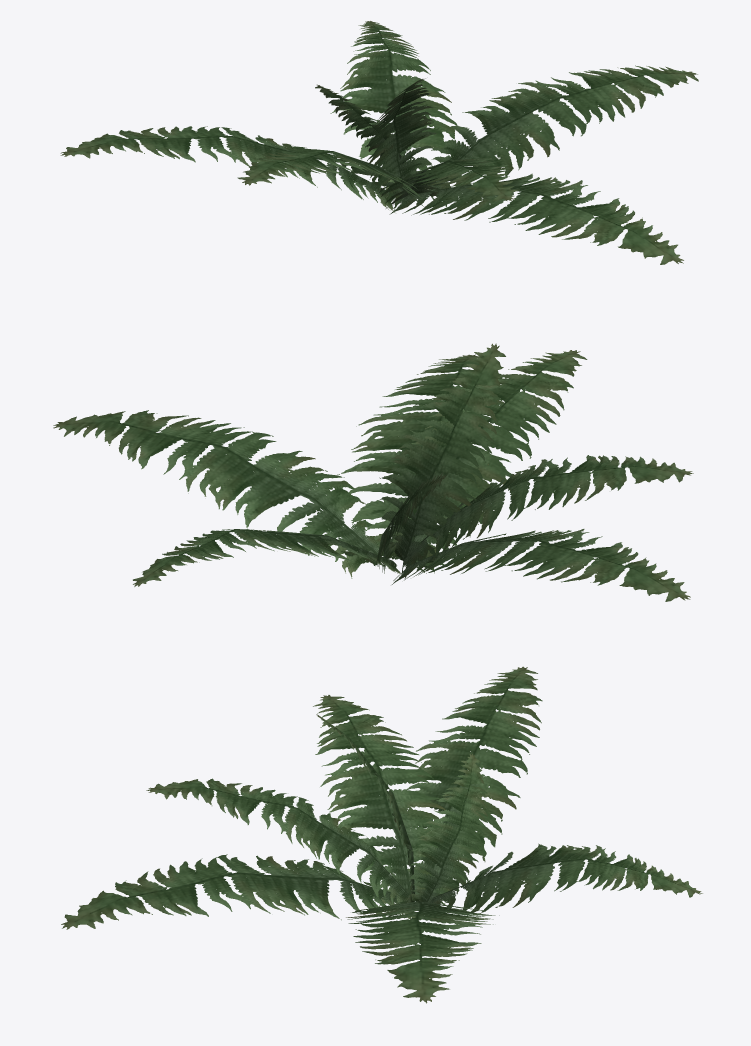
File: SM_Fern_B.fbx
The picture shows the model from 3 angles, top to bottom: view 1: azimuth 30°, elevation 25°; view 2: azimuth 150°, elevation 25°; view 3: azimuth 270°, elevation 25°; orthographic projection. The views are drawn at different scales.
Parts seen in each view (by area): view 1: SM_Fern_B; view 2: SM_Fern_B; view 3: SM_Fern_B.
Boxes of the visible parts, x1,y1,x2,y2 form: SM_Fern_B: (60,21,698,264); SM_Fern_B: (53,343,693,601); SM_Fern_B: (61,666,702,1003).
Size of the model in its own units: 109 by 29.61 by 96.69.
